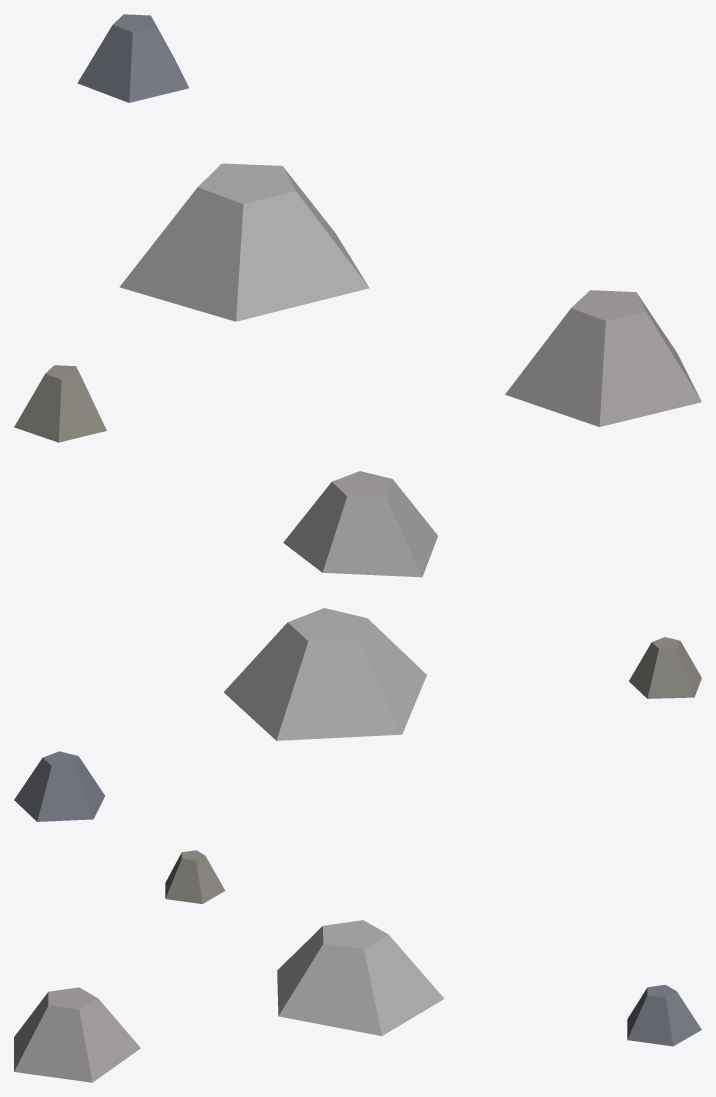
File: Rocks_Round_s_04.fbx
3 views of the same model, one above another, from view 1: azimuth 30°, elevation 25°; view 2: azimuth 150°, elevation 25°; view 3: azimuth 270°, elevation 25° (orthographic). The views are drawn at different scales.
Visible parts, largest first — view 1: Rocks_Round_s_04; view 2: Rocks_Round_s_04; view 3: Rocks_Round_s_04.
Boxes of the visible parts, <box> form: Rocks_Round_s_04: <box>14,14,701,442</box>; Rocks_Round_s_04: <box>14,471,701,821</box>; Rocks_Round_s_04: <box>14,850,701,1082</box>.
Bounding box in the file's own units: 0.3558 × 0.0546 × 0.5201.
